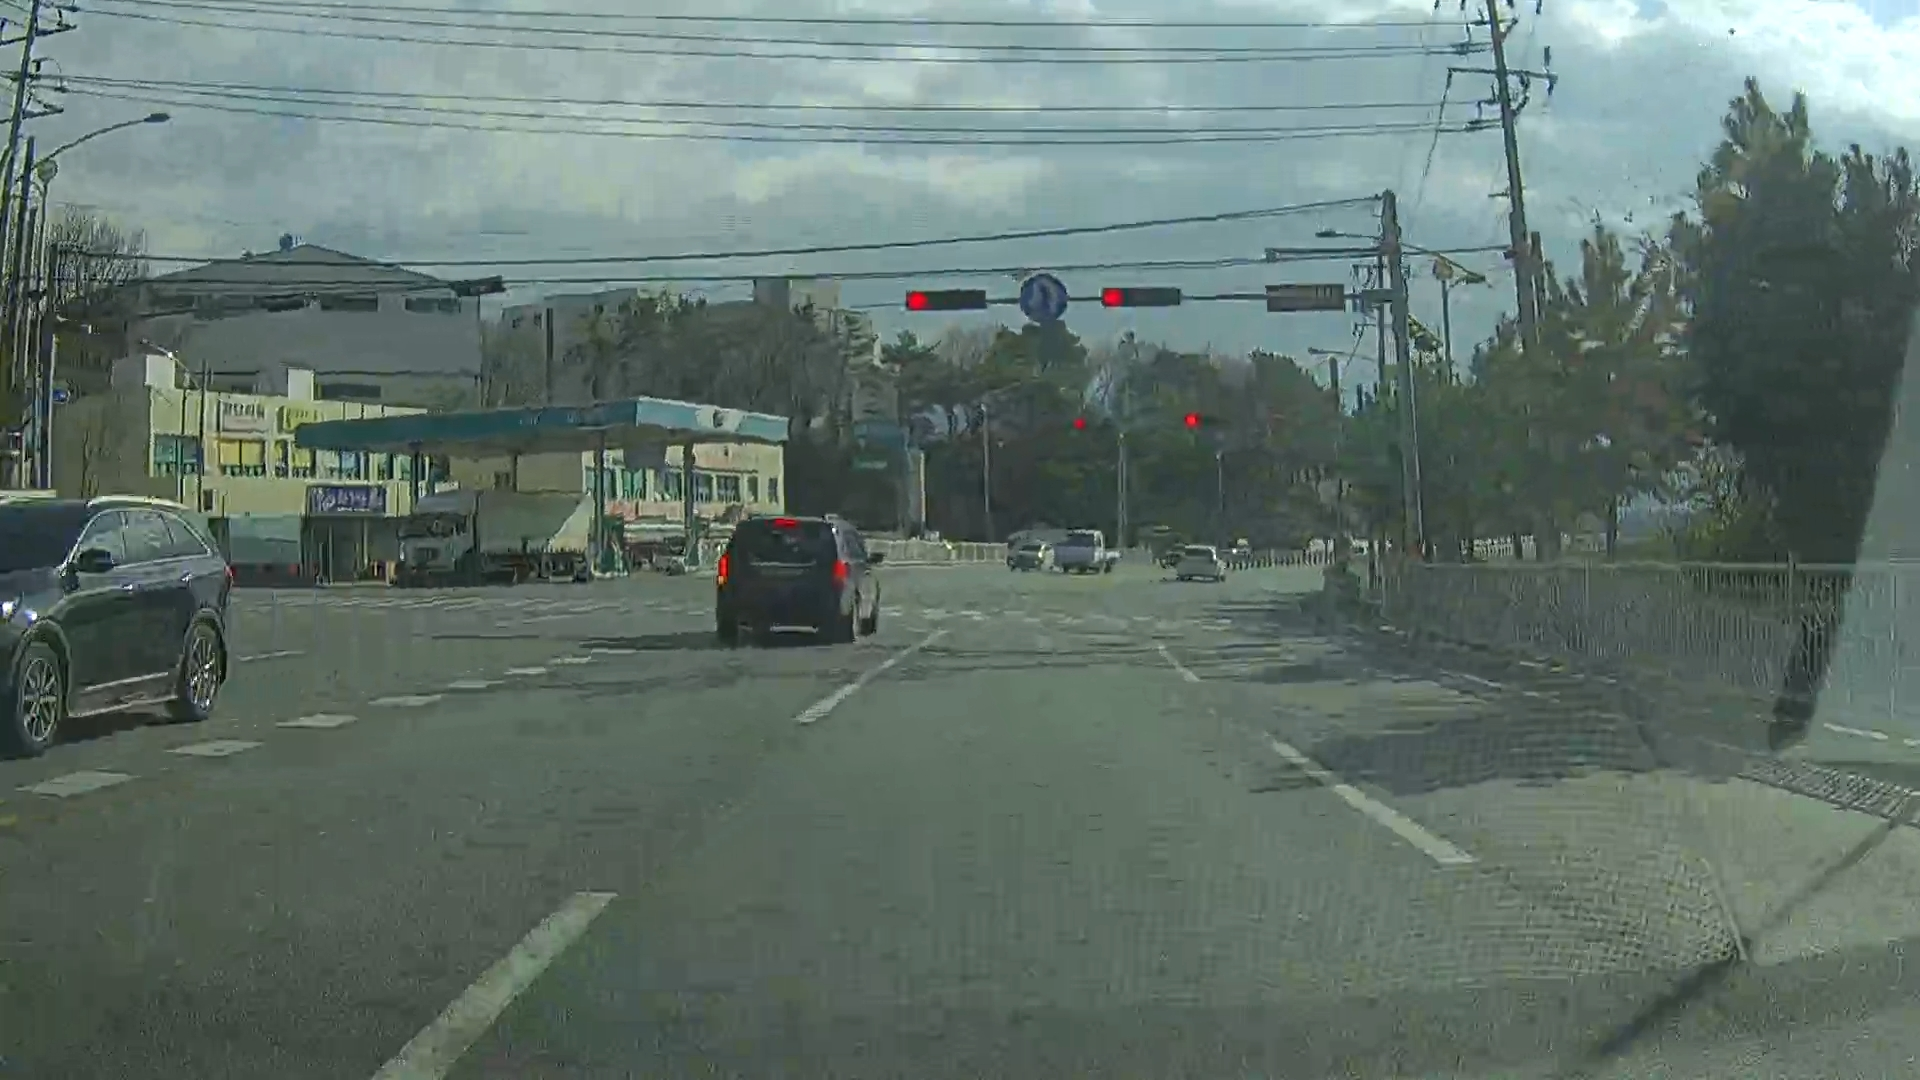trafficLight: (906, 287, 986, 316), (1096, 284, 1184, 310), (1185, 413, 1232, 429), (1069, 414, 1108, 427)
trafficSignCircle: (1021, 277, 1068, 323)
